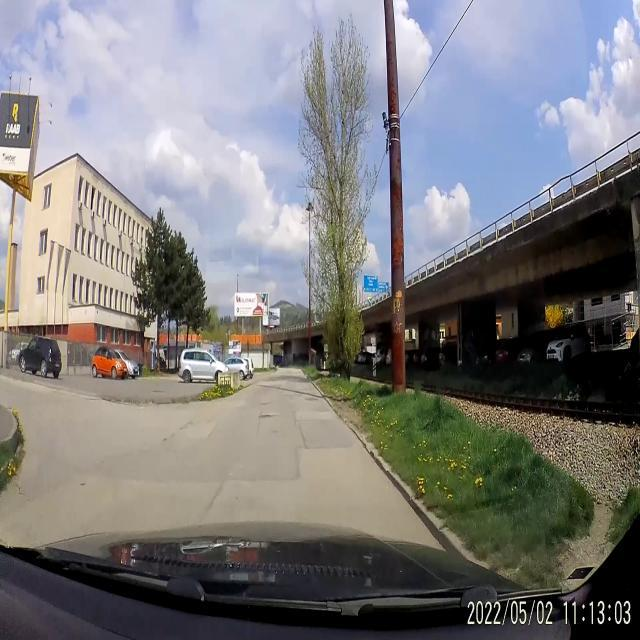Pothole: (254, 402, 281, 422)
